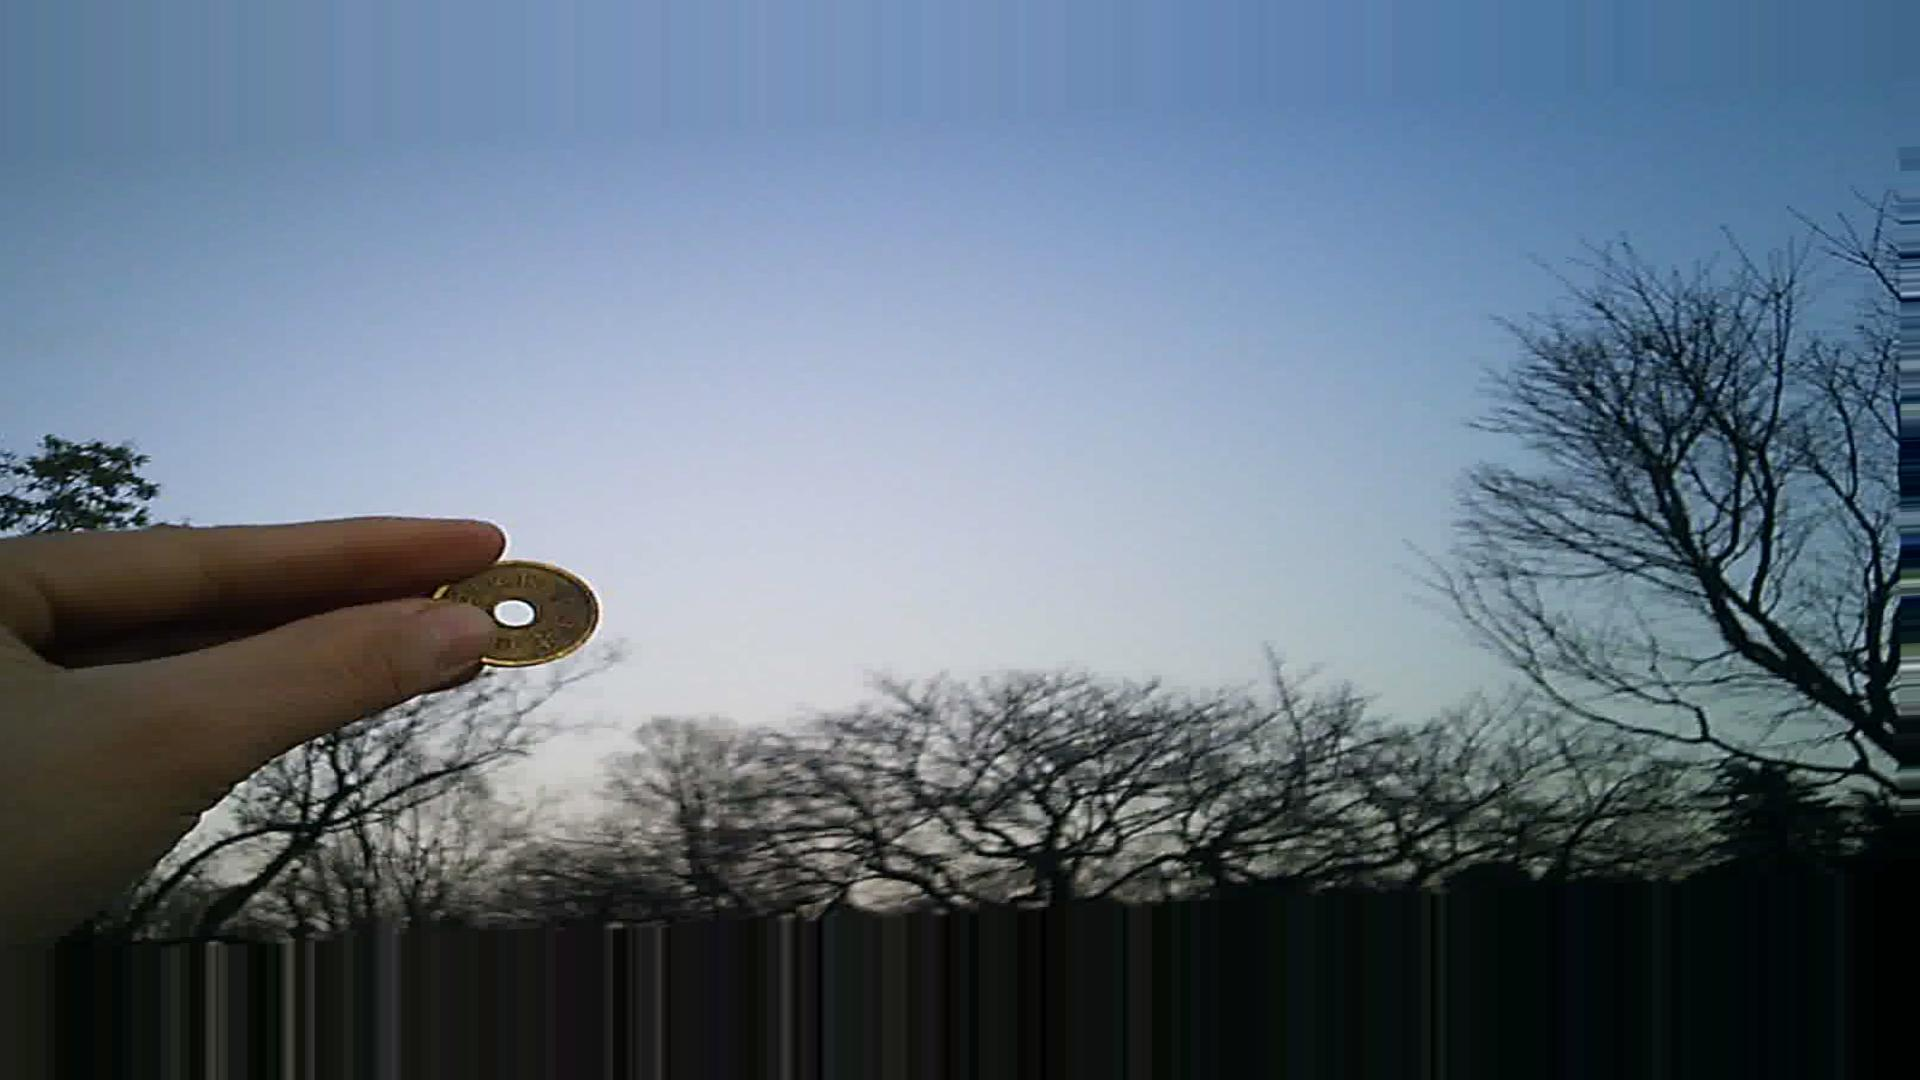5 Yen: (414, 547, 597, 659)
